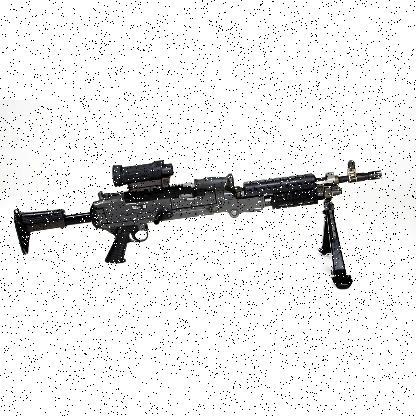gun: (14, 160, 378, 288)
